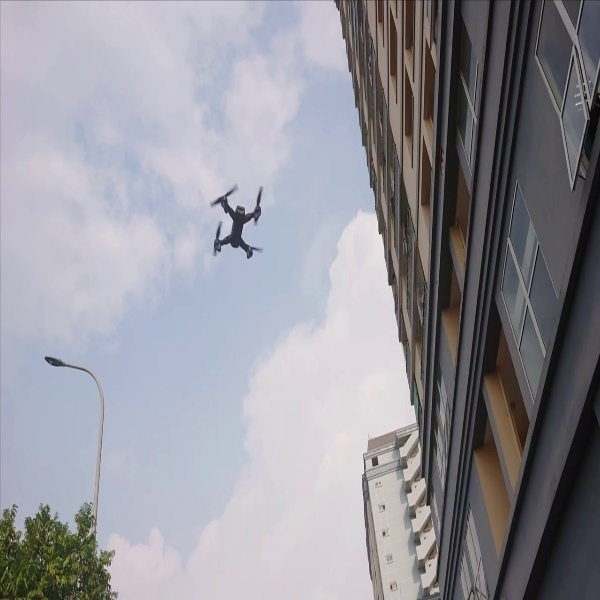drone: (192, 176, 275, 267)
